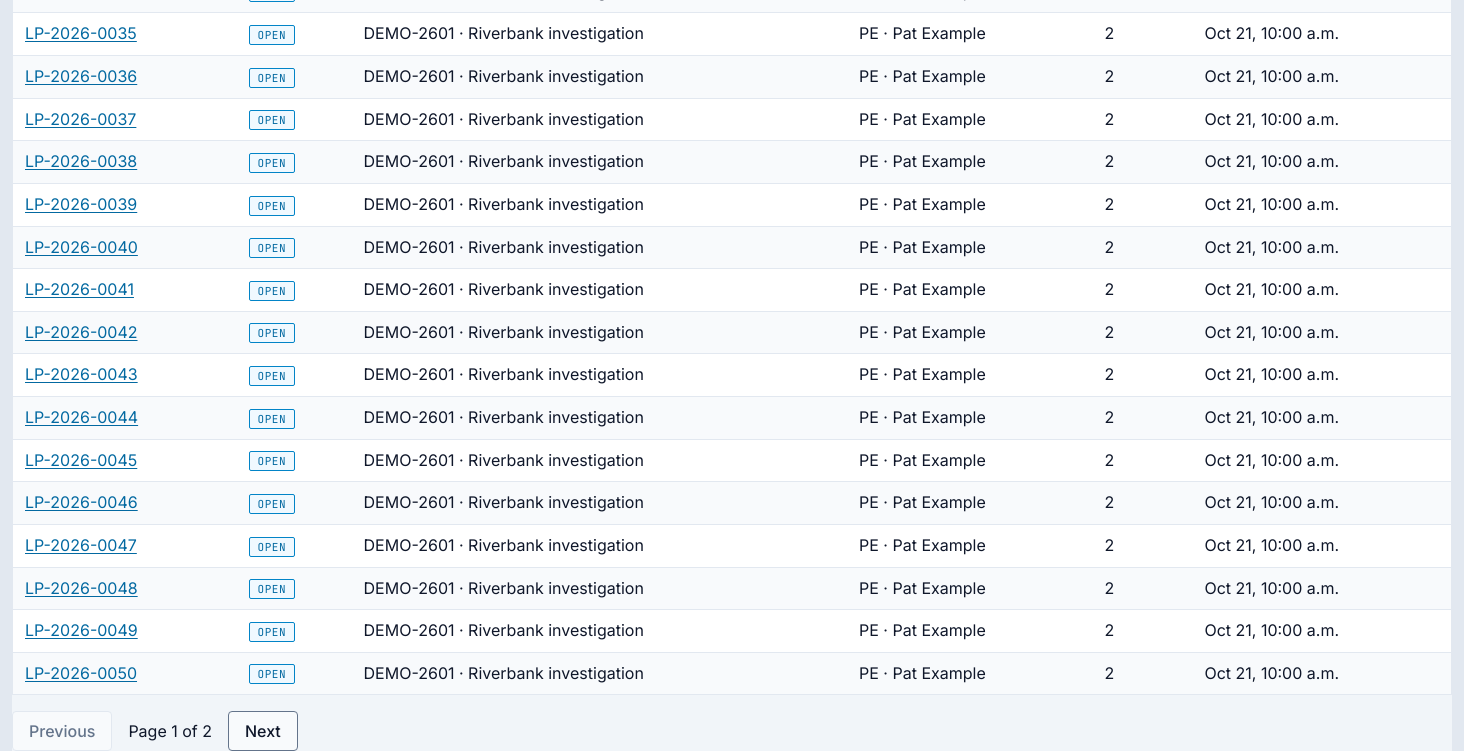
Lab Testing → Programs list › steps back when the page asked for is past the end
(page scrolled)
Click the button "Next" at (263, 732), box [228,712,298,750]
(page scrolled)
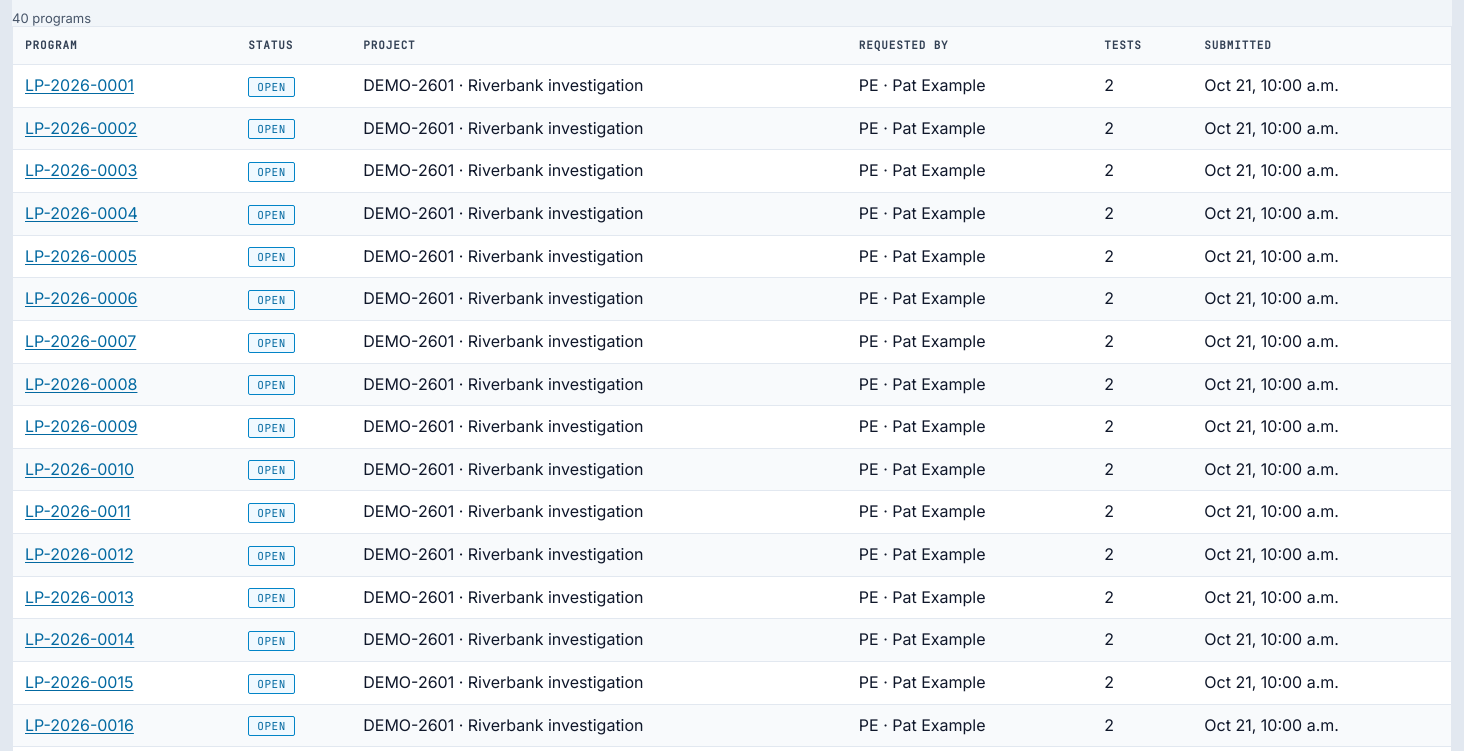
expect the text "40 programs" is shown: met, box [12,10,91,26]
expect the navigation bar "Pages" is gone: met
